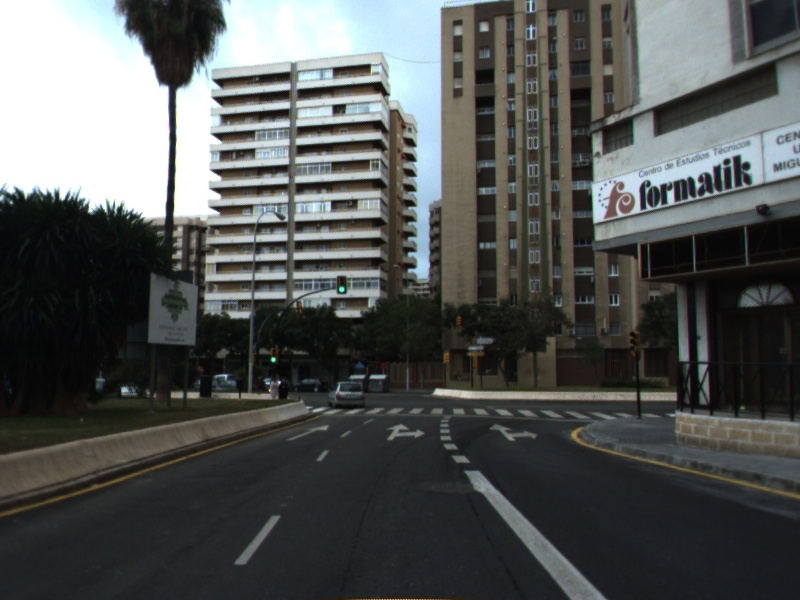STRAIGHT: (283, 422, 331, 442)
STRAIGHT_RIGHT: (487, 421, 540, 443), (383, 422, 428, 442)
